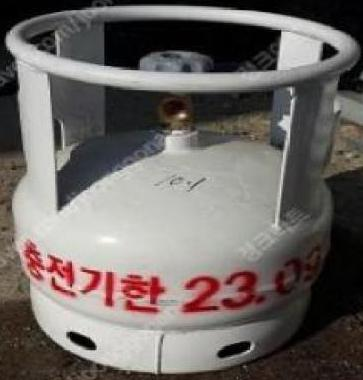cylinder: (1, 1, 363, 380)
